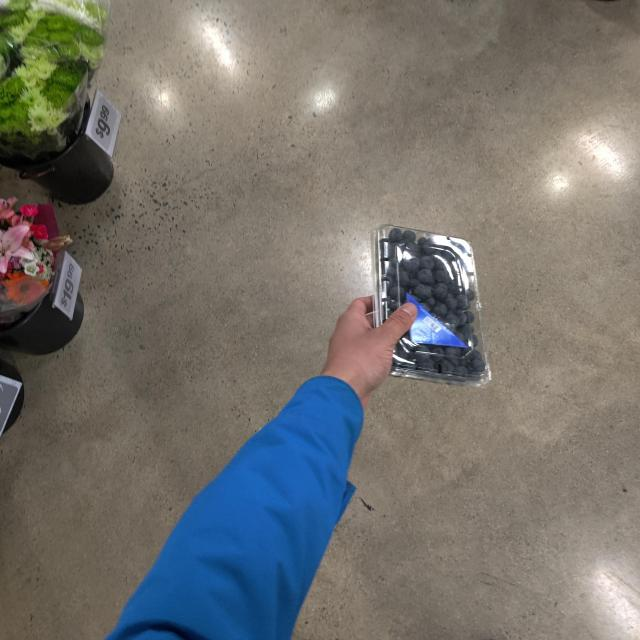Blueberries: (368, 226, 502, 386)
